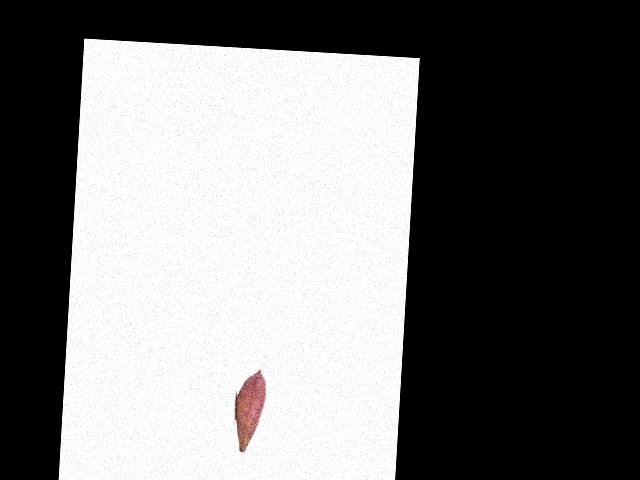sweet_potato: (234, 367, 267, 453)
